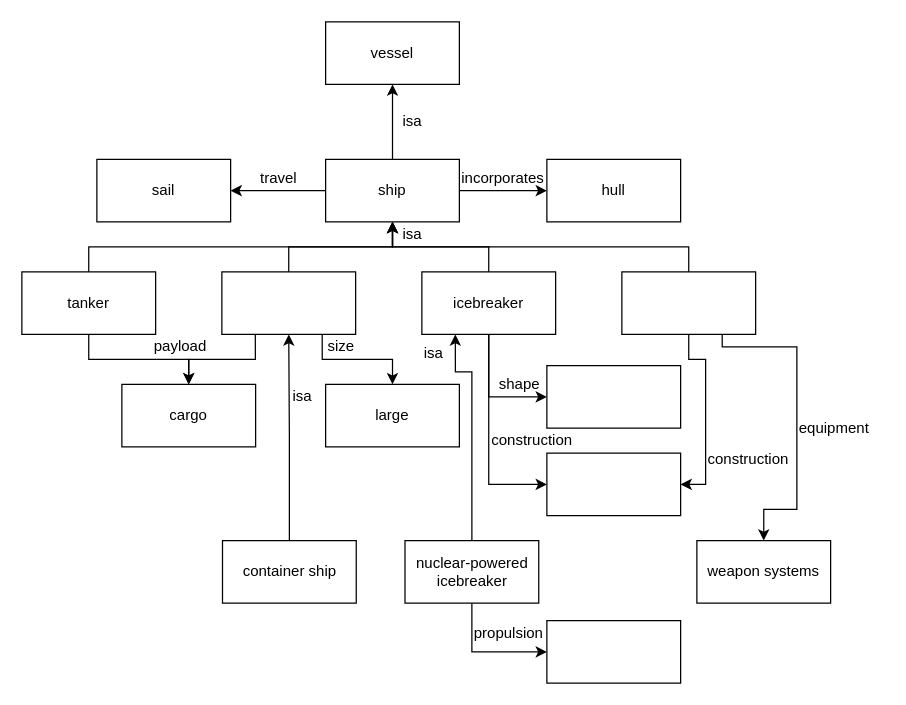
The diagram is 906 pixels wide and 705 high, and some of its shapes have lost their labels. The centre of each missing label's shape, as x and y in pixels:
cargo ship: the point at 288,302
ice-clearing: the point at 613,396
naval ship: the point at 688,302
nuclear: the point at 613,651
strengthened: the point at 613,484
